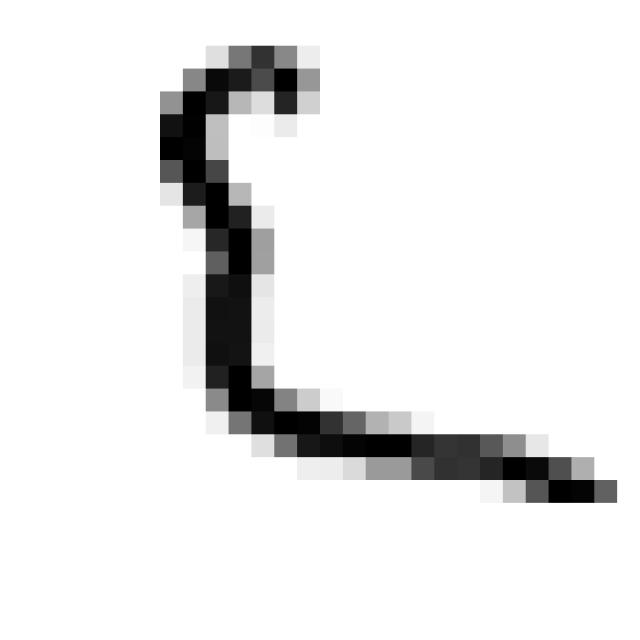4 -four-: (144, 28, 631, 521)
